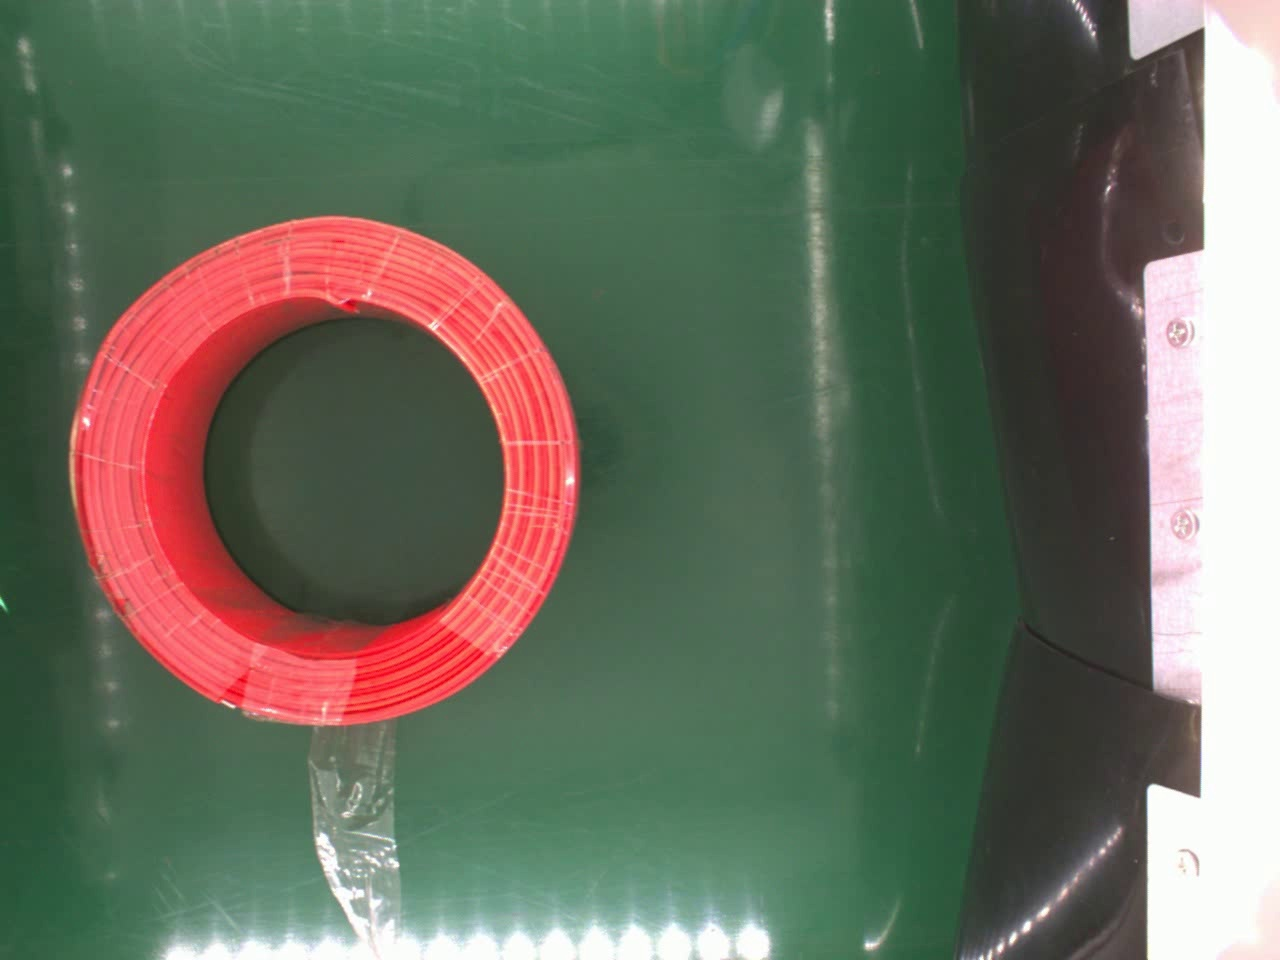red: (65, 211, 583, 723)
